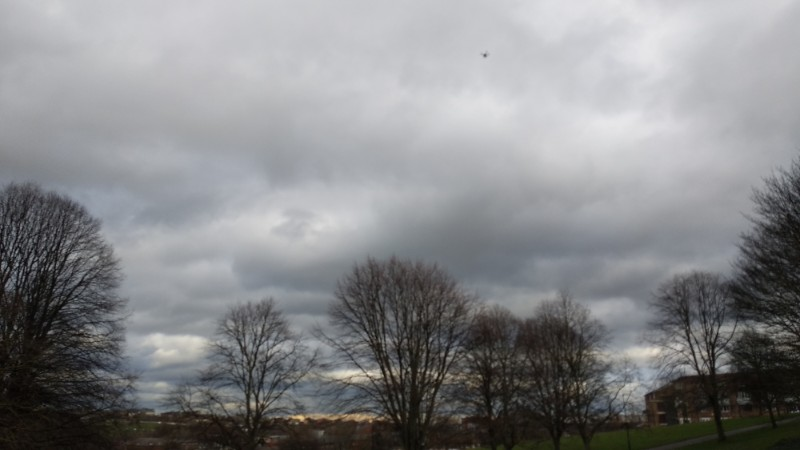drone: (480, 50, 491, 59)
